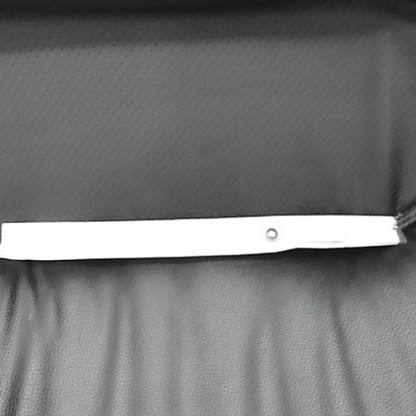ironball: (263, 225, 279, 242)
